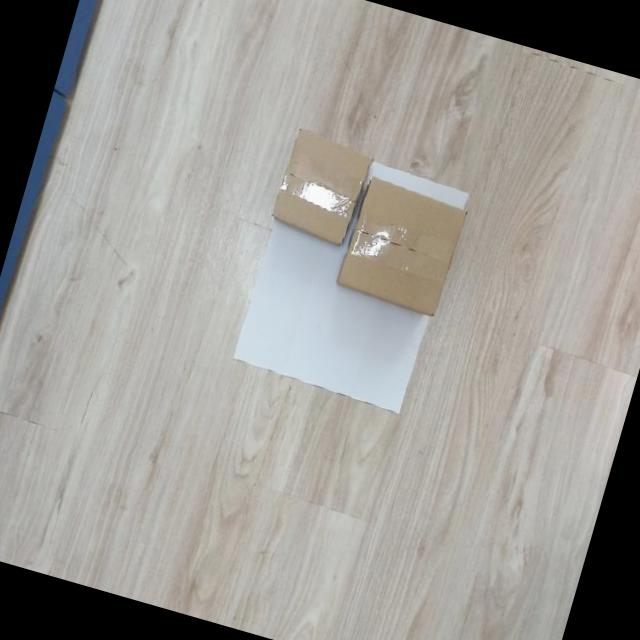box: (332, 170, 474, 322), (260, 120, 380, 252)
